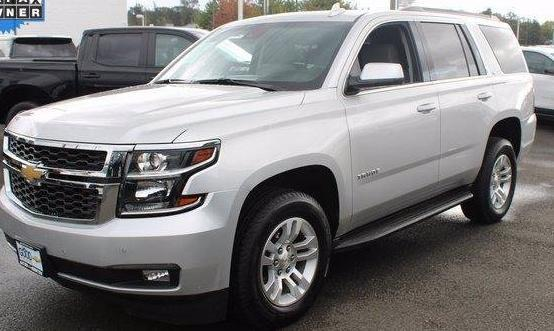SUV: (1, 9, 538, 329)
